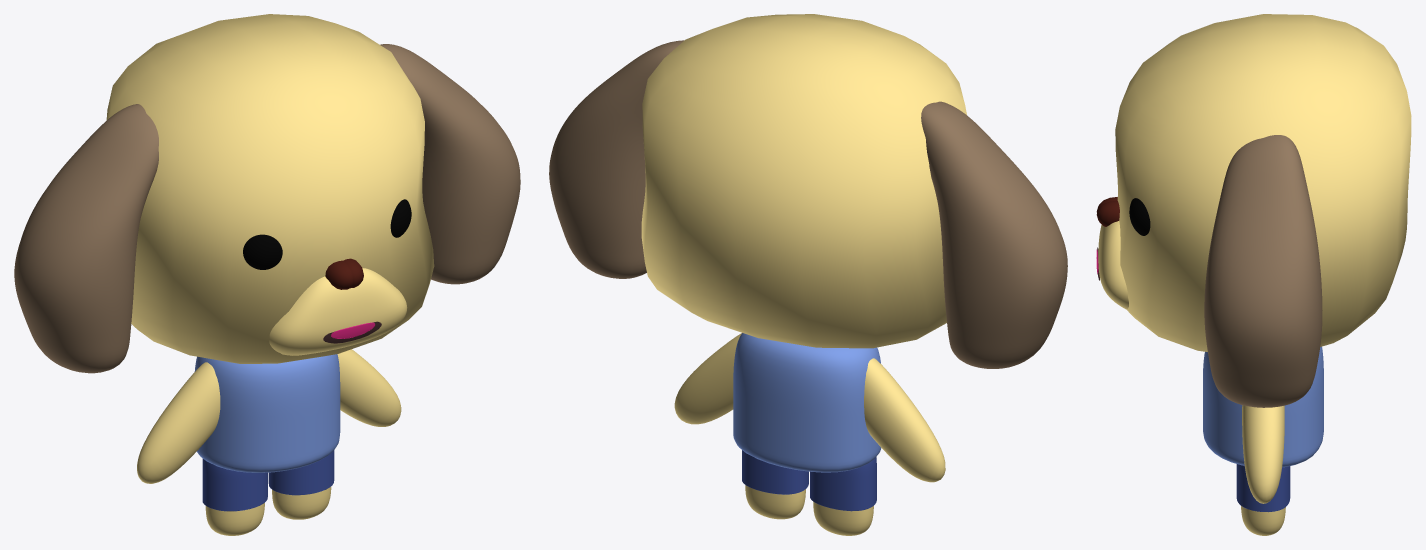
Rendered from mungmung.glb.
3 views of the same model, side by side, from view 1: azimuth 30°, elevation 25°; view 2: azimuth 150°, elevation 25°; view 3: azimuth 270°, elevation 25° (orthographic). The views are drawn at different scales.
Parts seen in each view (by area): view 1: 머리, 귀, 몸, 팔, 입, 다리, 바지, 눈, 코; view 2: 머리, 귀, 몸, 팔, 다리, 바지; view 3: 머리, 귀, 몸, 팔, 입, 다리, 바지, 눈, 코.
Part boxes in pixels (<box>): 머리: <box>106,14,434,363</box>; 귀: <box>14,44,520,373</box>; 몸: <box>194,354,340,472</box>; 팔: <box>137,349,401,483</box>; 입: <box>269,268,407,355</box>; 다리: <box>202,450,334,511</box>; 바지: <box>205,486,331,535</box>; 눈: <box>243,199,411,269</box>; 코: <box>325,258,363,289</box>; 머리: <box>641,14,966,348</box>; 귀: <box>549,40,1067,368</box>; 몸: <box>733,333,881,472</box>; 팔: <box>674,333,945,482</box>; 다리: <box>742,450,876,511</box>; 바지: <box>745,485,873,535</box>; 머리: <box>1115,14,1411,351</box>; 귀: <box>1204,135,1322,407</box>; 몸: <box>1203,346,1323,467</box>; 팔: <box>1242,405,1284,503</box>; 입: <box>1098,221,1128,309</box>; 다리: <box>1236,464,1290,512</box>; 바지: <box>1241,506,1285,535</box>; 눈: <box>1129,198,1150,235</box>; 코: <box>1096,197,1119,226</box>.
Bounding box in the file's own units: 3.07 × 2.85 × 1.73.
